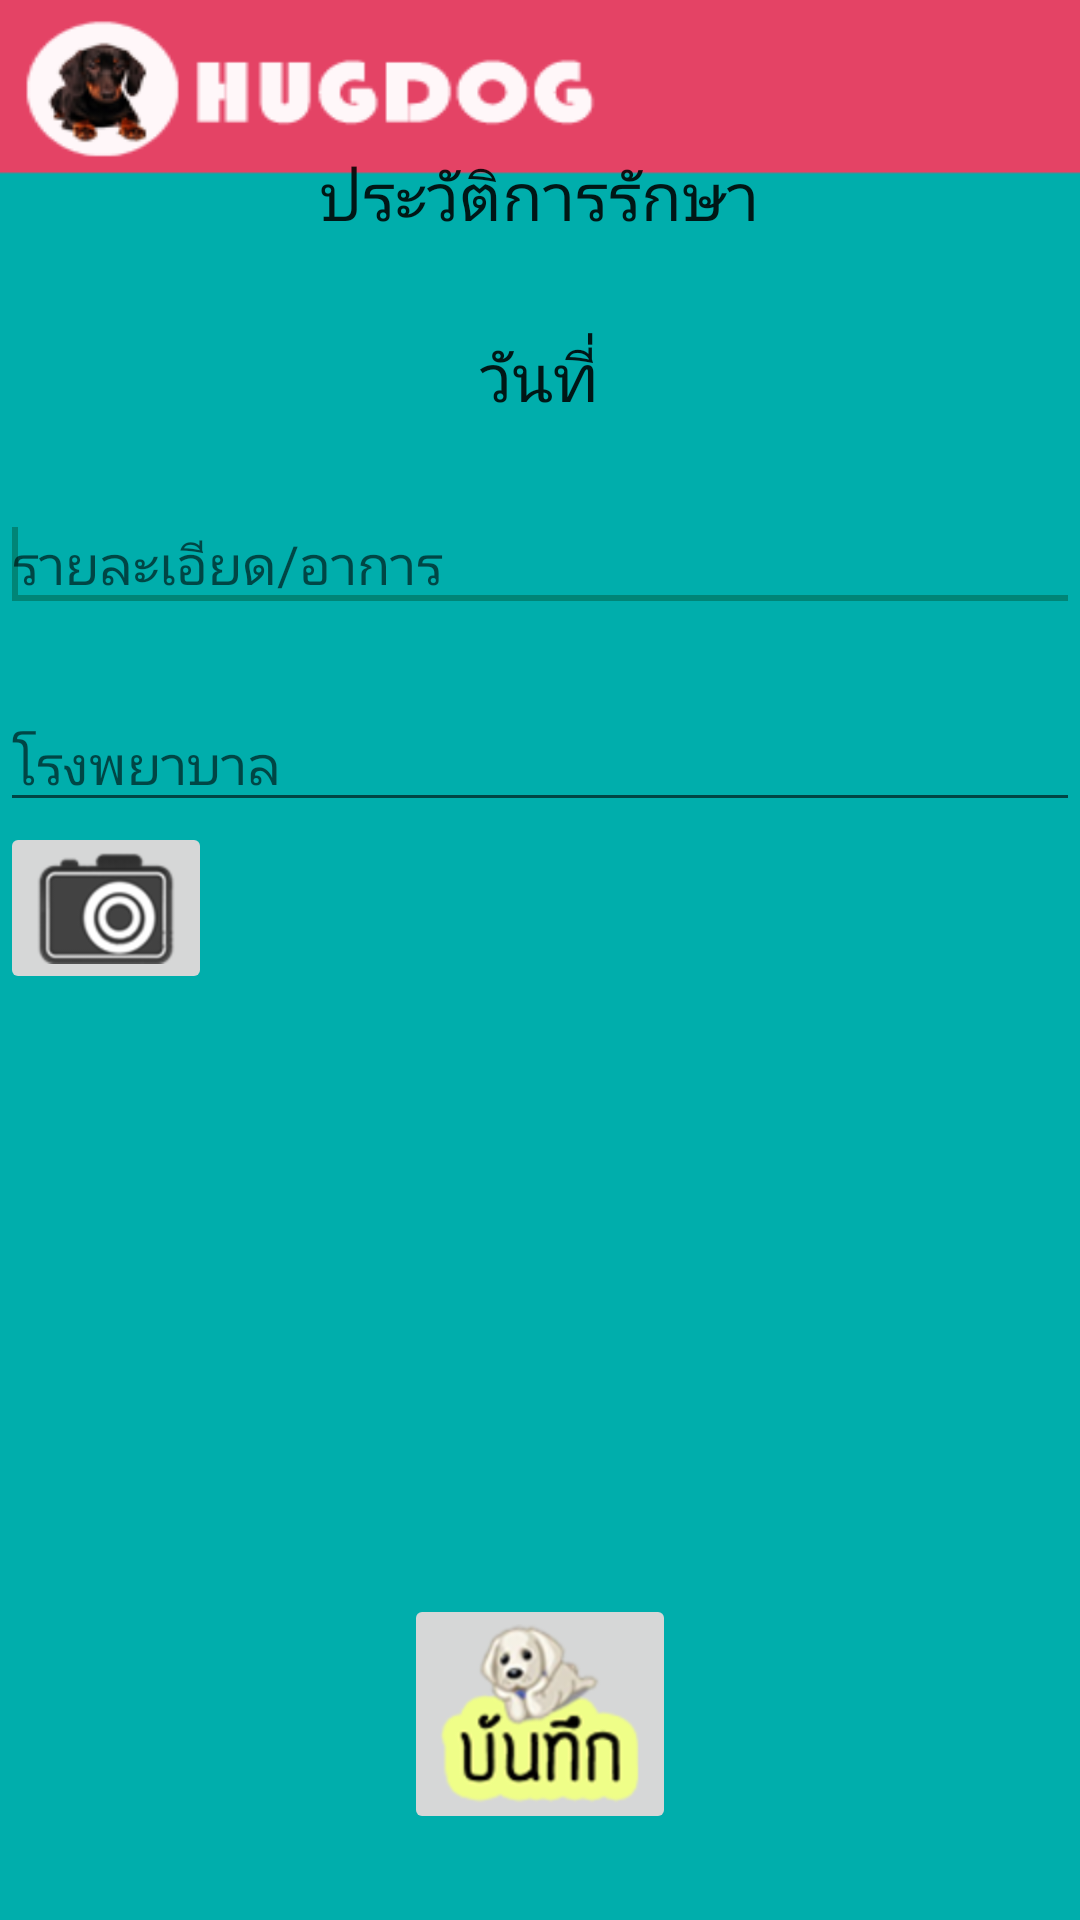

Locate icon controls on the screen. Image size 1080w x 1920h, boxes as (x1, y1, x2, y2).
cam: (12, 840, 200, 976)
